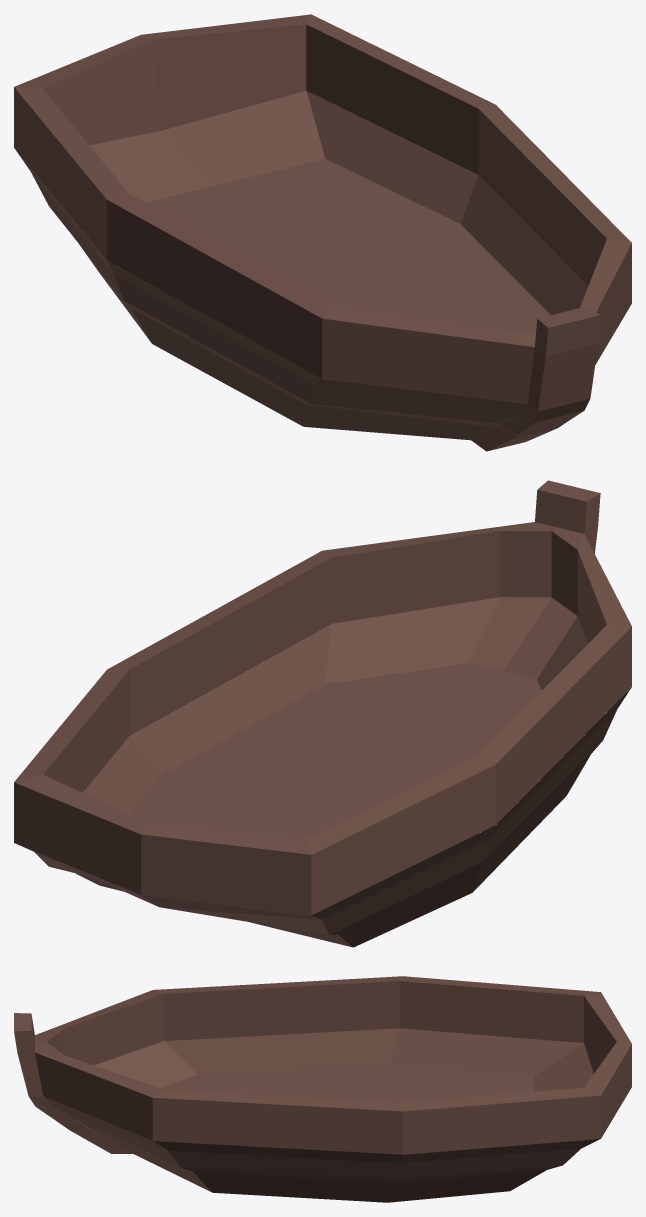
Rendered from boat.glb.
3 renders of one model, top to bottom at view 1: azimuth 30°, elevation 25°; view 2: azimuth 150°, elevation 25°; view 3: azimuth 270°, elevation 25°, orthographic. The views are drawn at different scales.
Parts seen in each view (by area): view 1: Boat; view 2: Boat; view 3: Boat.
Boxes of the visible parts, bbox=[...] form: Boat: bbox=[14, 14, 631, 451]; Boat: bbox=[14, 480, 631, 947]; Boat: bbox=[14, 976, 631, 1202].
Bounding box in the file's own units: 4.67 × 2.01 × 9.01.
